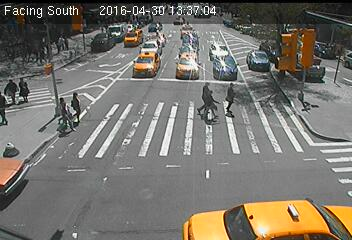neg: (58, 150, 87, 188), (155, 146, 183, 185), (196, 32, 220, 64), (258, 70, 280, 100), (291, 82, 312, 110), (127, 69, 148, 97), (109, 51, 125, 72), (296, 47, 311, 67), (221, 53, 232, 68)
pos: (218, 80, 243, 113), (198, 90, 221, 120), (53, 102, 74, 129), (19, 76, 39, 102), (2, 76, 22, 102)
